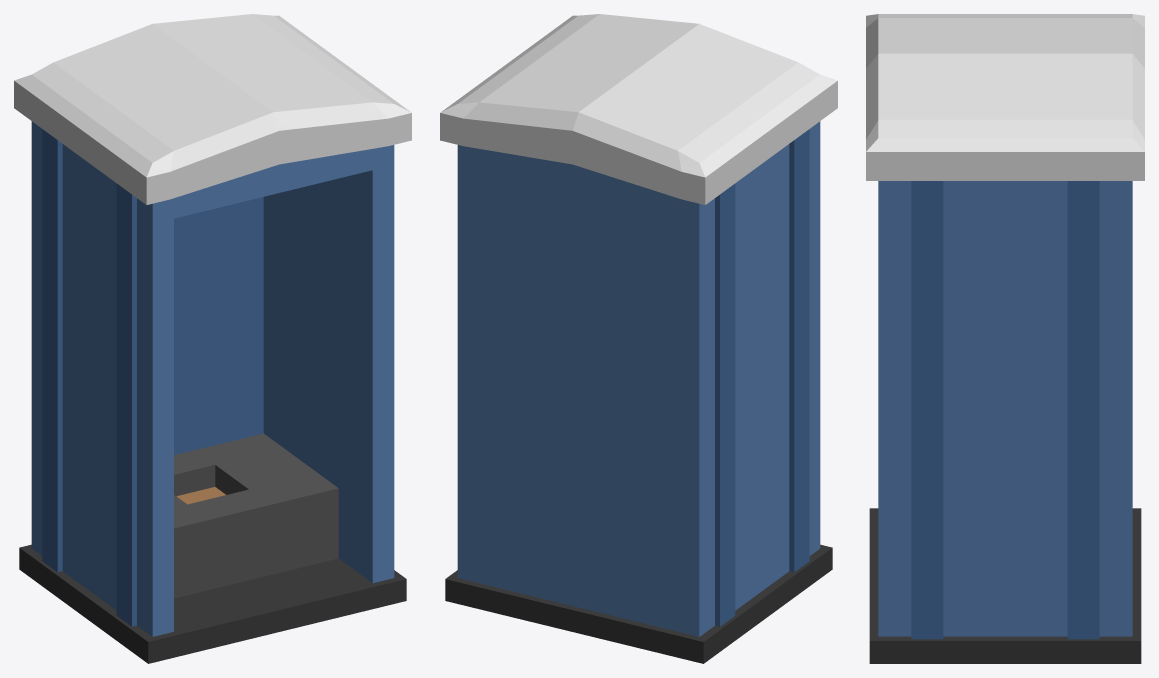
File: SM_IndustrialProps_WC_01.fbx
3 renders of one model, left to right at view 1: azimuth 30°, elevation 25°; view 2: azimuth 150°, elevation 25°; view 3: azimuth 270°, elevation 25°, orthographic. The views are drawn at different scales.
Parts seen in each view (by area): view 1: SM_IndustrialProps_WC_01; view 2: SM_IndustrialProps_WC_01; view 3: SM_IndustrialProps_WC_01.
Part boxes in pixels (<box>): SM_IndustrialProps_WC_01: <box>14,14,411,663</box>; SM_IndustrialProps_WC_01: <box>440,14,837,663</box>; SM_IndustrialProps_WC_01: <box>866,14,1144,663</box>.
Size of the model in its own units: 1.32 by 2.46 by 1.14.
